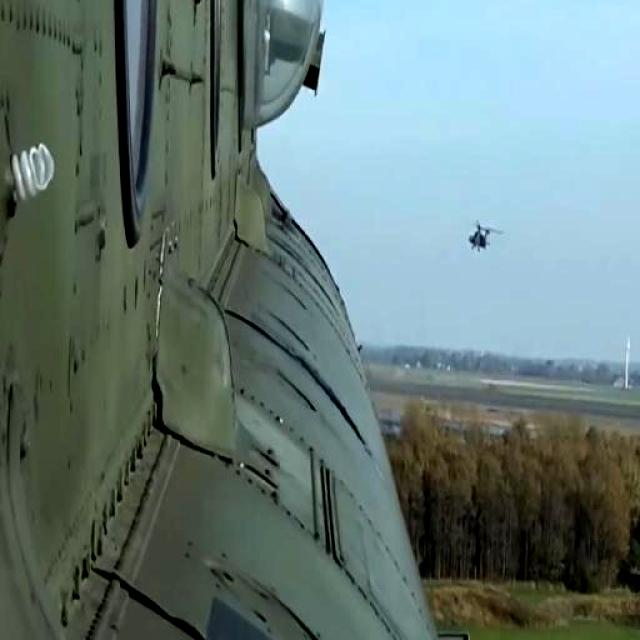drone: (466, 214, 492, 255)
